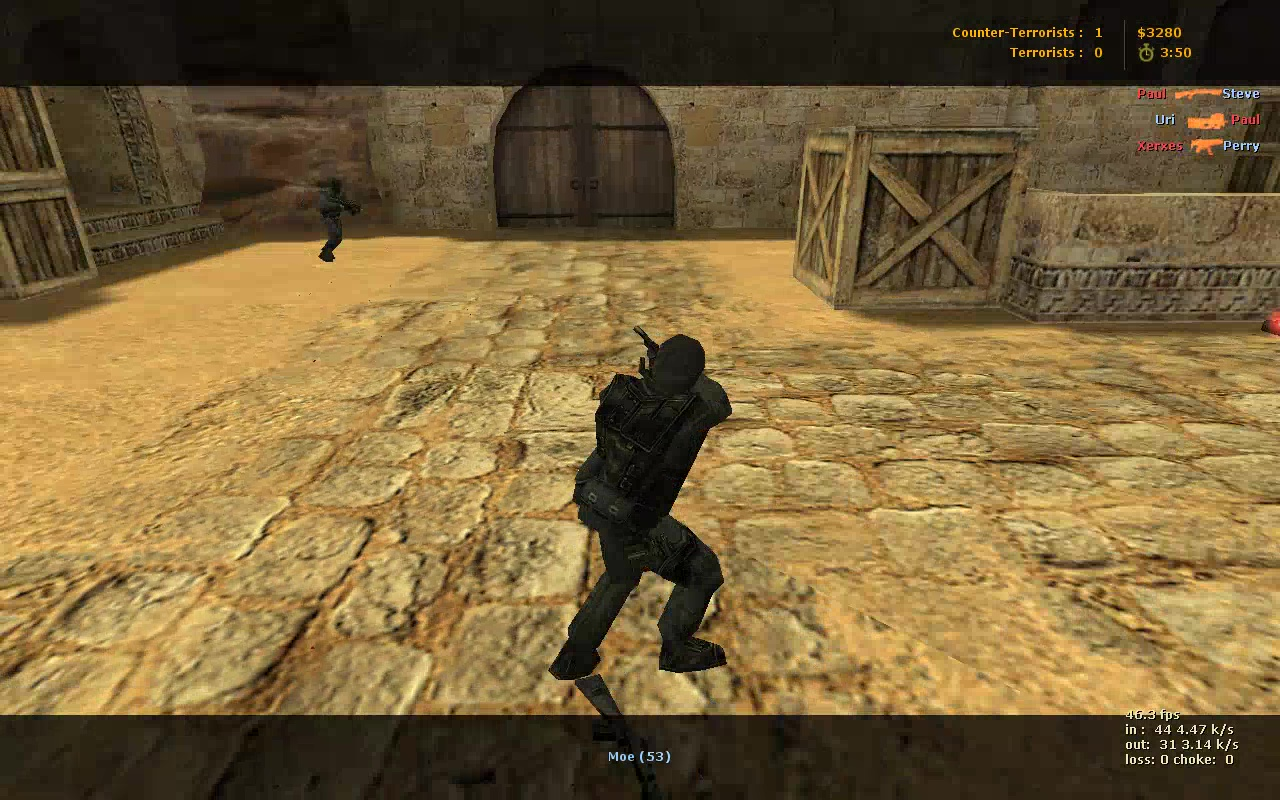ct: (559, 325, 750, 686), (313, 180, 361, 261)
